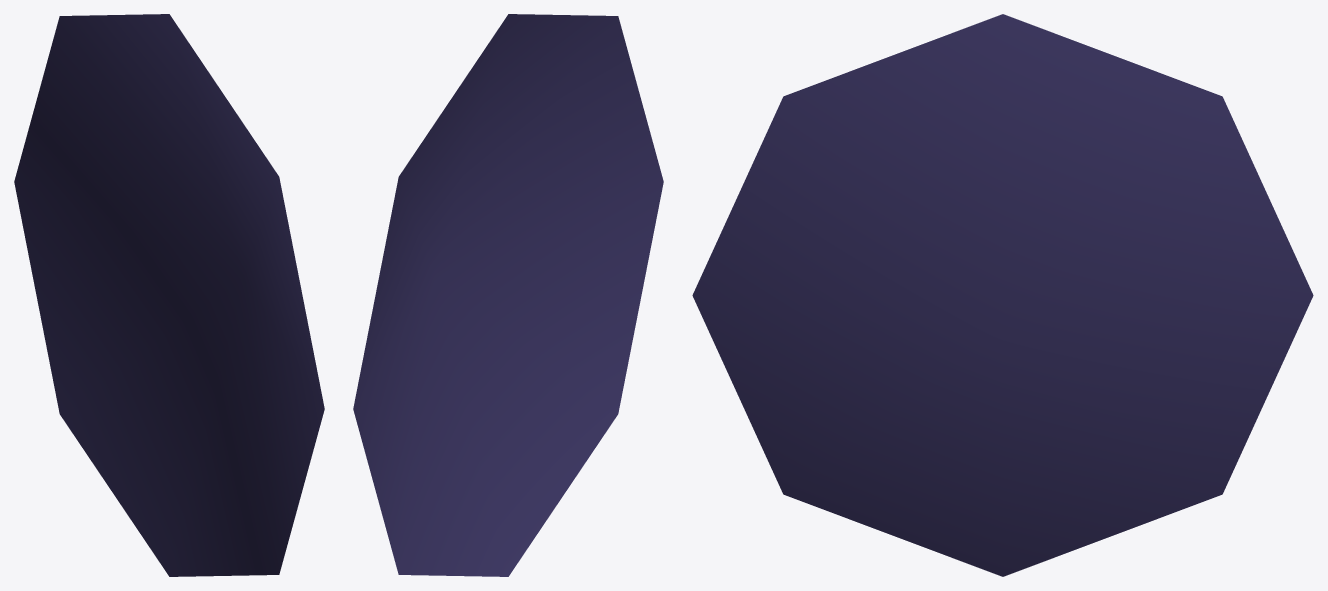
Rendered from Sight_03_Glass.fbx.
3 renders of one model, left to right at view 1: azimuth 30°, elevation 25°; view 2: azimuth 150°, elevation 25°; view 3: azimuth 270°, elevation 25°, orthographic.
Parts seen in each view (by area): view 1: Sight_03_Glass; view 2: Sight_03_Glass; view 3: Sight_03_Glass.
Part boxes in pixels (x1=…): Sight_03_Glass: x1=14, y1=14, x2=324, y2=576; Sight_03_Glass: x1=353, y1=14, x2=663, y2=576; Sight_03_Glass: x1=692, y1=14, x2=1313, y2=576.
Bounding box in the file's own units: 0.4376 × 3.18 × 3.18.
